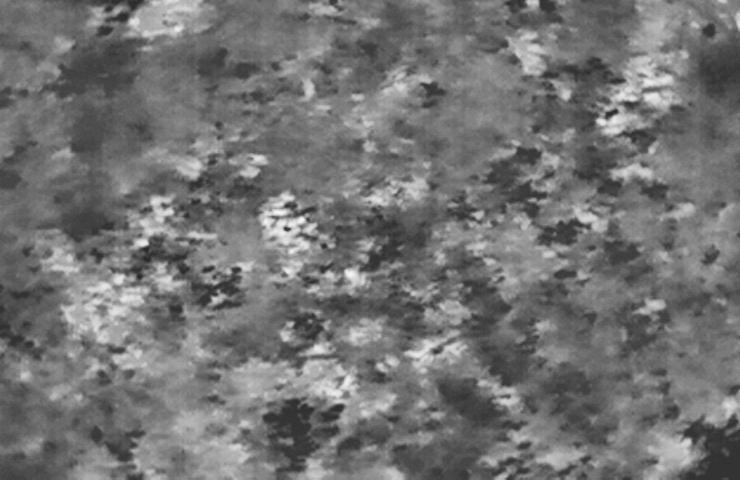landmines: (257, 189, 334, 261)
